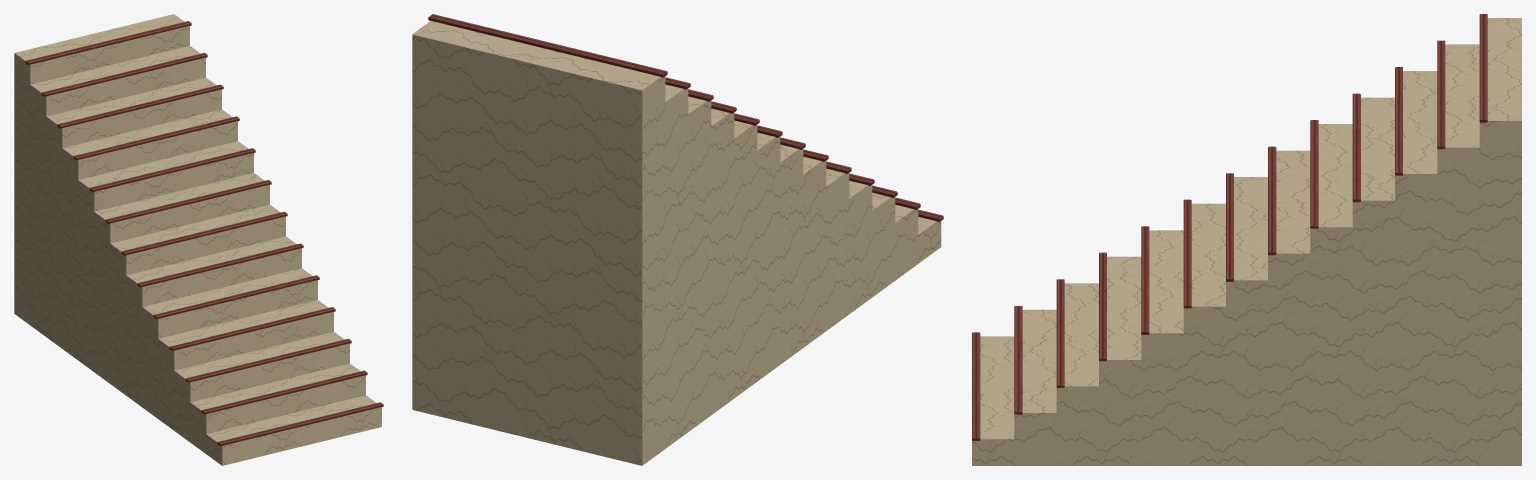
The model's file is MD_17_StairFlight.fbx.
The picture shows the model from 3 angles, left to right: view 1: azimuth 30°, elevation 25°; view 2: azimuth 150°, elevation 25°; view 3: azimuth 270°, elevation 25°; orthographic projection. The views are drawn at different scales.
Visible parts, largest first — view 1: MD_17_StairFlight_solid_stair_flight, MD_17_StairFlight_step_nosing.005, MD_17_StairFlight_step_nosing.008, MD_17_StairFlight_step_nosing.001, MD_17_StairFlight_step_nosing.007, MD_17_StairFlight_step_nosing.010, MD_17_StairFlight_step_nosing.004, MD_17_StairFlight_step_nosing.009, MD_17_StairFlight_step_nosing, MD_17_StairFlight_step_nosing.011, MD_17_StairFlight_step_nosing.002, MD_17_StairFlight_step_nosing.003 (+2 smaller); view 2: MD_17_StairFlight_solid_stair_flight, MD_17_StairFlight_step_nosing.012; view 3: MD_17_StairFlight_solid_stair_flight, MD_17_StairFlight_step_nosing.005, MD_17_StairFlight_step_nosing.007, MD_17_StairFlight_step_nosing.009, MD_17_StairFlight_step_nosing.011, MD_17_StairFlight_step_nosing.008, MD_17_StairFlight_step_nosing, MD_17_StairFlight_step_nosing.002, MD_17_StairFlight_step_nosing.004, MD_17_StairFlight_step_nosing.012, MD_17_StairFlight_step_nosing.001, MD_17_StairFlight_step_nosing.003 (+2 smaller).
Boxes of the visible parts, bbox=[...] form: MD_17_StairFlight_solid_stair_flight: bbox=[14, 14, 381, 465]; MD_17_StairFlight_step_nosing.005: bbox=[137, 243, 303, 287]; MD_17_StairFlight_step_nosing.008: bbox=[89, 148, 255, 192]; MD_17_StairFlight_step_nosing.001: bbox=[201, 370, 367, 414]; MD_17_StairFlight_step_nosing.007: bbox=[105, 180, 271, 223]; MD_17_StairFlight_step_nosing.010: bbox=[57, 84, 223, 128]; MD_17_StairFlight_step_nosing.004: bbox=[153, 275, 319, 319]; MD_17_StairFlight_step_nosing.009: bbox=[73, 116, 239, 160]; MD_17_StairFlight_step_nosing: bbox=[217, 402, 383, 446]; MD_17_StairFlight_step_nosing.011: bbox=[41, 53, 207, 96]; MD_17_StairFlight_step_nosing.002: bbox=[185, 338, 351, 382]; MD_17_StairFlight_step_nosing.003: bbox=[169, 307, 335, 351]; MD_17_StairFlight_solid_stair_flight: bbox=[412, 21, 941, 465]; MD_17_StairFlight_step_nosing.012: bbox=[428, 14, 667, 77]; MD_17_StairFlight_solid_stair_flight: bbox=[972, 18, 1521, 465]; MD_17_StairFlight_step_nosing.005: bbox=[1183, 199, 1191, 308]; MD_17_StairFlight_step_nosing.007: bbox=[1268, 146, 1276, 255]; MD_17_StairFlight_step_nosing.009: bbox=[1352, 93, 1360, 202]; MD_17_StairFlight_step_nosing.011: bbox=[1437, 40, 1445, 149]; MD_17_StairFlight_step_nosing.008: bbox=[1310, 120, 1318, 228]; MD_17_StairFlight_step_nosing: bbox=[972, 332, 980, 440]; MD_17_StairFlight_step_nosing.002: bbox=[1056, 279, 1064, 387]; MD_17_StairFlight_step_nosing.004: bbox=[1141, 226, 1149, 334]; MD_17_StairFlight_step_nosing.012: bbox=[1479, 14, 1487, 122]; MD_17_StairFlight_step_nosing.001: bbox=[1014, 306, 1022, 414]; MD_17_StairFlight_step_nosing.003: bbox=[1099, 252, 1106, 361].
Size of the model in its own units: 1.53 by 2.36 by 3.38.
2 materials, 2 textured.
